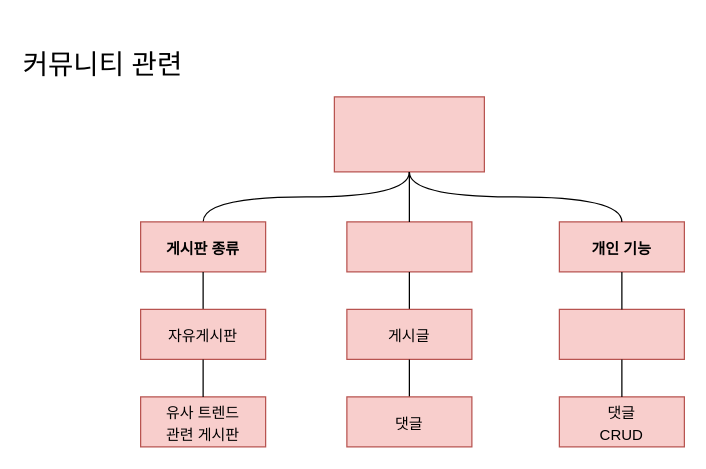
Image size: 706x469. Some labels were removed from this diagram. Each missing label, with the box of its shape:
게시글 CRUD: (558, 308, 684, 359)
커뮤니티: (333, 96, 484, 172)
컨텐츠: (346, 221, 472, 272)
